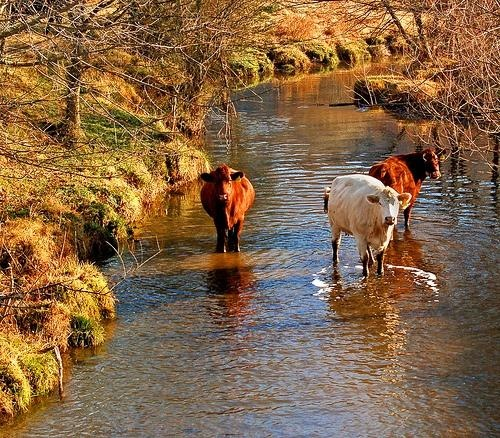cow: (328, 174, 412, 278), (369, 147, 446, 232), (199, 165, 257, 254)
